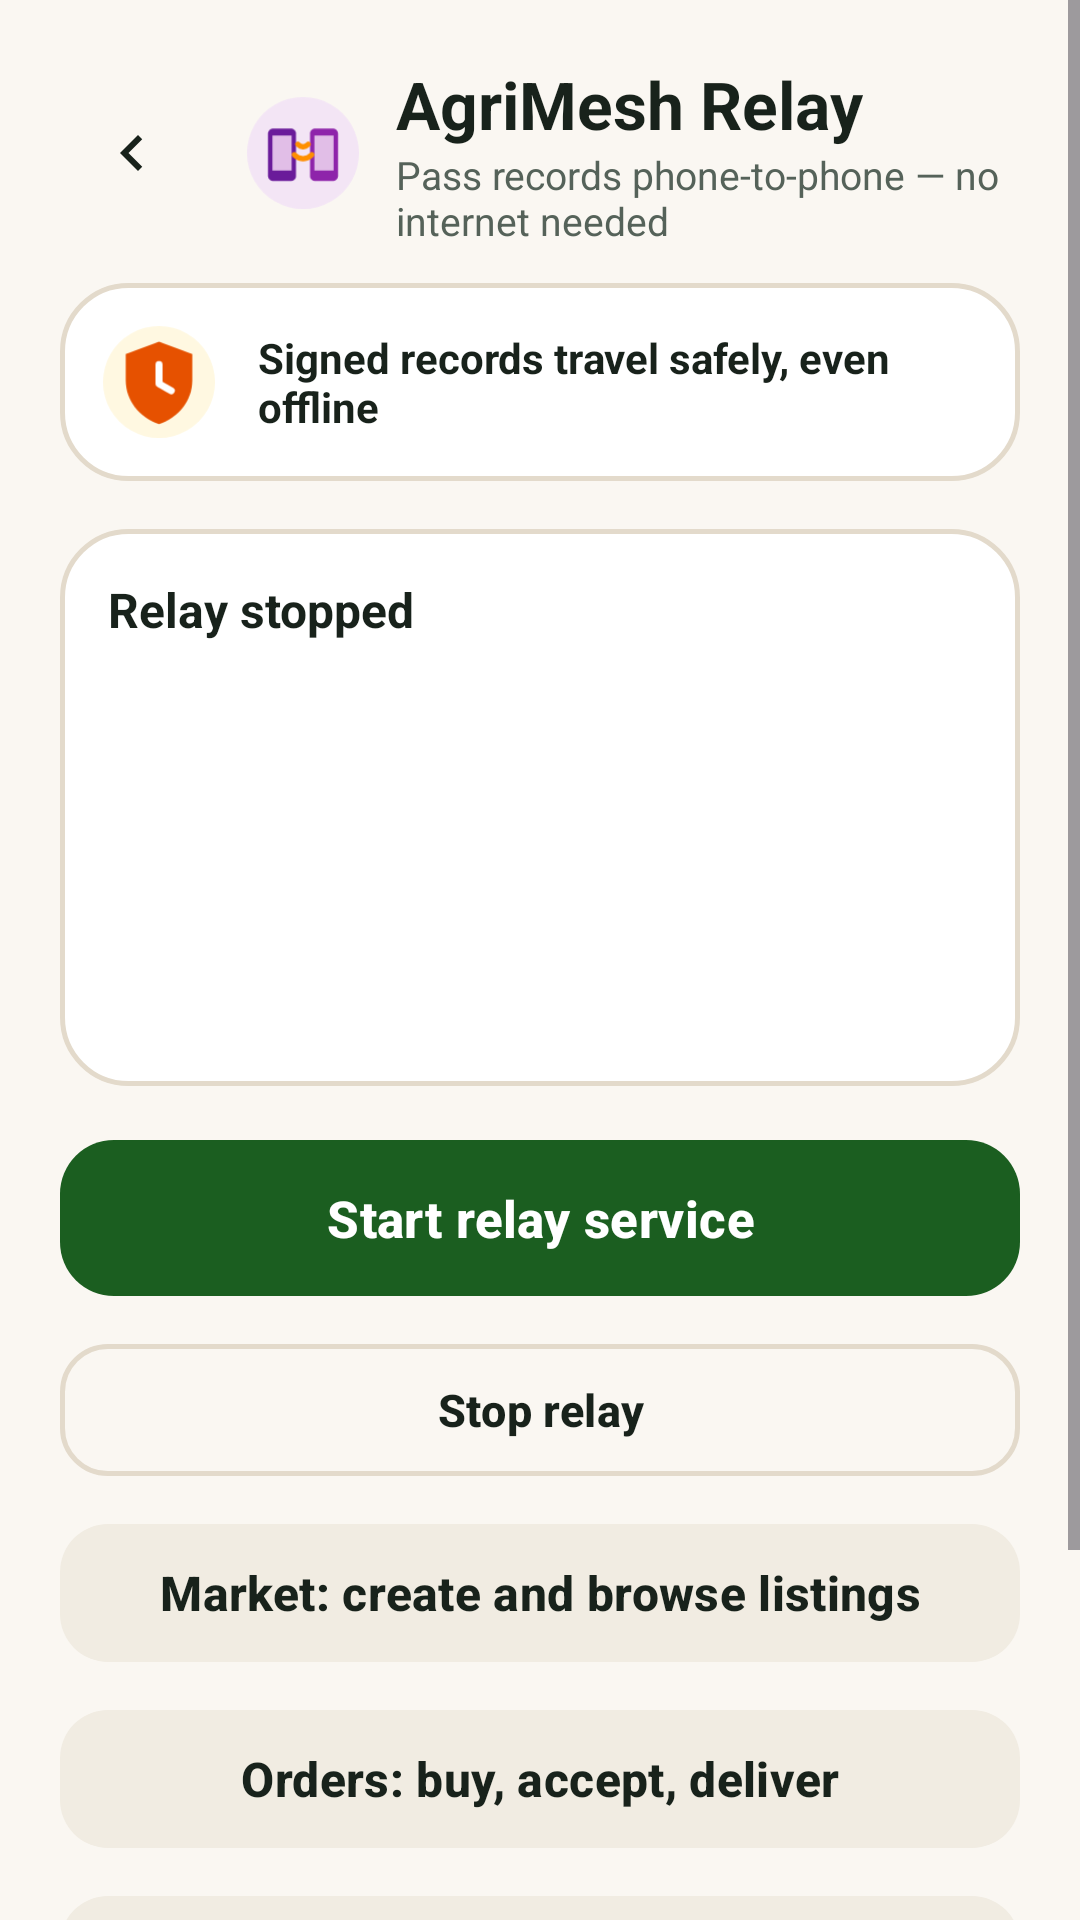

Icons on this 1080×1920 Android screen, each with the point to tap as [x,y]:
Back: [131,153]
Share phone-to-phone: [303,155]
